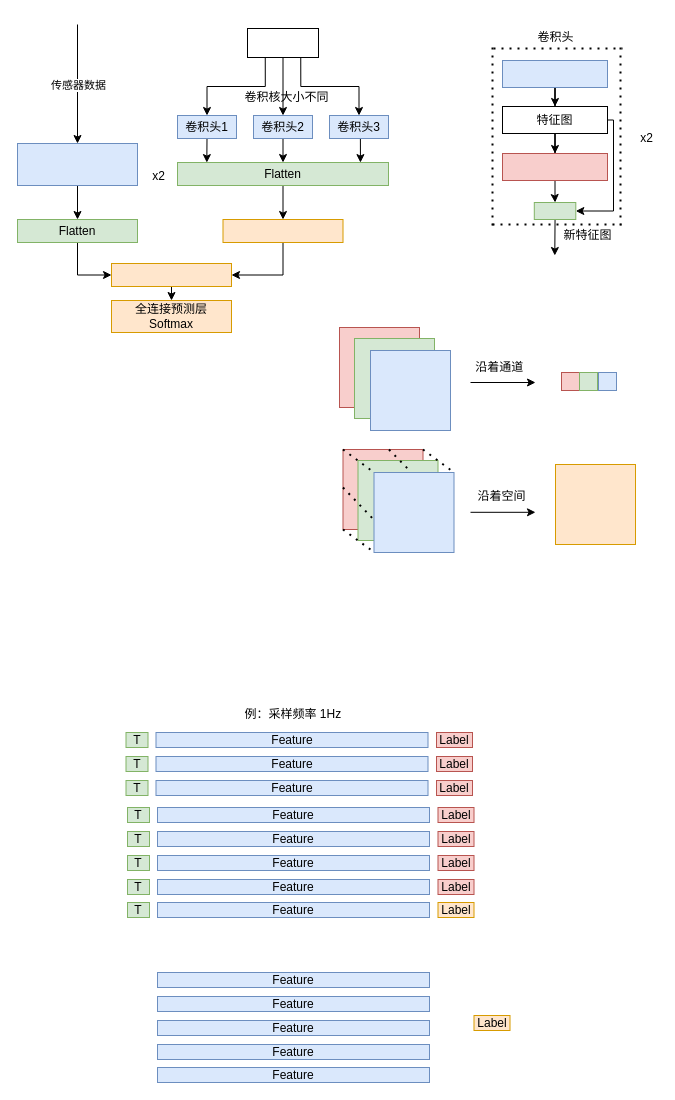
Some shapes in this 675 by 1100 pixel diagram are drawn without their labels. The box of each missing label's shape, as (x1, y1, x2, y2) in pixels:
ConvLSTM BN Max pooling: (16, 142, 138, 186)
乘积: (533, 202, 576, 220)
加和: (222, 218, 343, 242)
加和+平均: (110, 262, 232, 286)
卷积层: (502, 60, 608, 88)
图像数据: (246, 28, 318, 58)
注意力权重: (502, 152, 608, 180)
